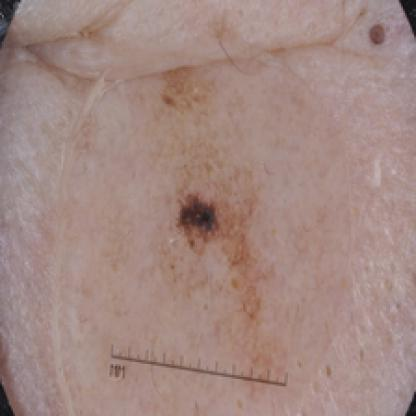malignant: (164, 186, 282, 297)
